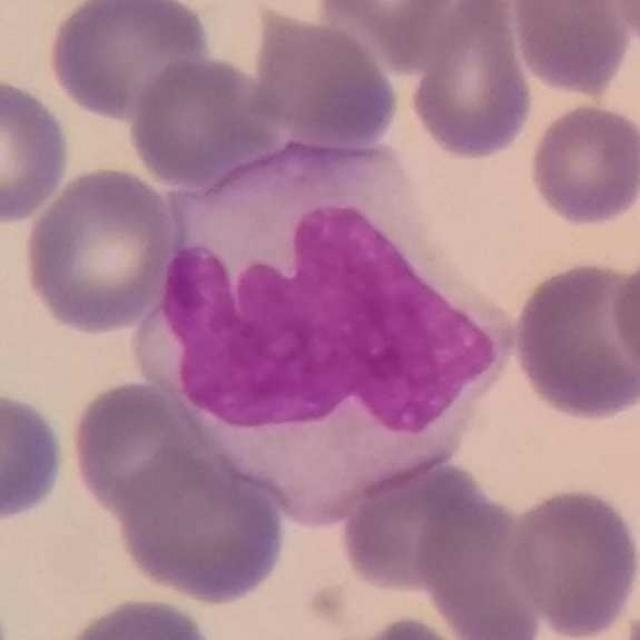Monocyte: (132, 138, 515, 531)
Platelets: (616, 602, 640, 640)
RBC: (109, 440, 291, 606), (19, 162, 182, 338), (334, 455, 510, 599), (412, 475, 549, 640), (245, 11, 403, 153), (508, 256, 640, 425), (503, 483, 640, 639), (66, 376, 209, 522), (43, 0, 214, 122), (126, 52, 277, 190), (408, 5, 536, 164), (524, 99, 640, 230), (506, 0, 634, 99), (0, 72, 73, 225), (0, 385, 69, 528), (54, 592, 220, 640), (313, 0, 471, 43), (607, 239, 640, 388), (326, 612, 490, 640), (605, 0, 640, 56), (617, 599, 640, 640)
